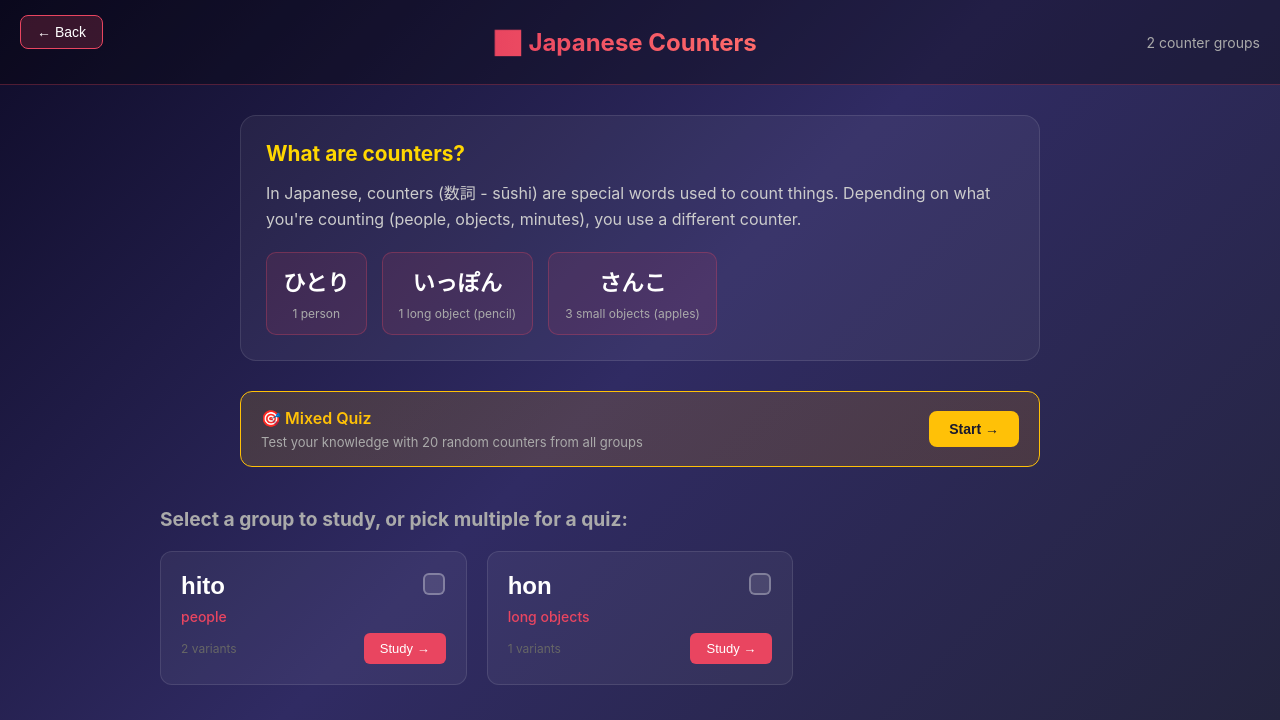
Test: CountersMode › should navigate to study mode when clicking a group card
Step 1. Click the heading "hito" → (203, 586), box [181,572,225,600]
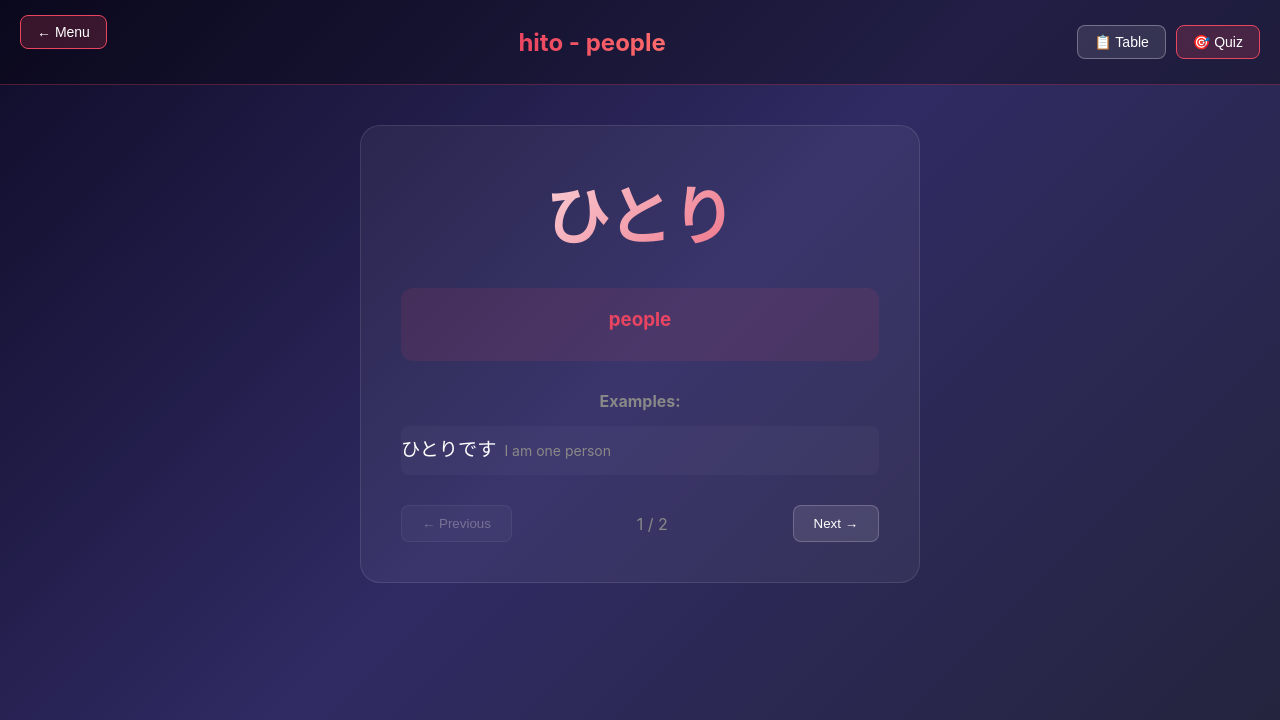
Expected: the heading "people" is shown, [609,308,671,331]
Expected: the heading "hito - people" is shown, [518,28,666,56]
Expected: the text "ひとり" is shown, [401,166,879,258]
